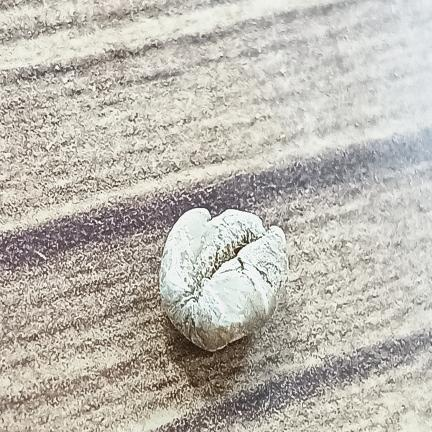cut: (160, 208, 287, 351)
